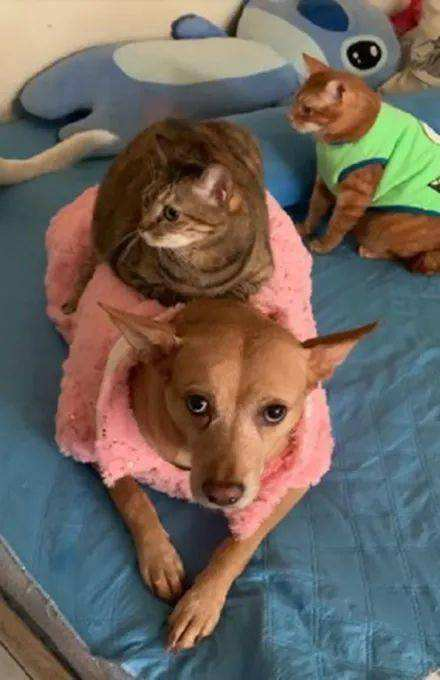cat: (88, 104, 279, 304), (284, 48, 440, 282)
